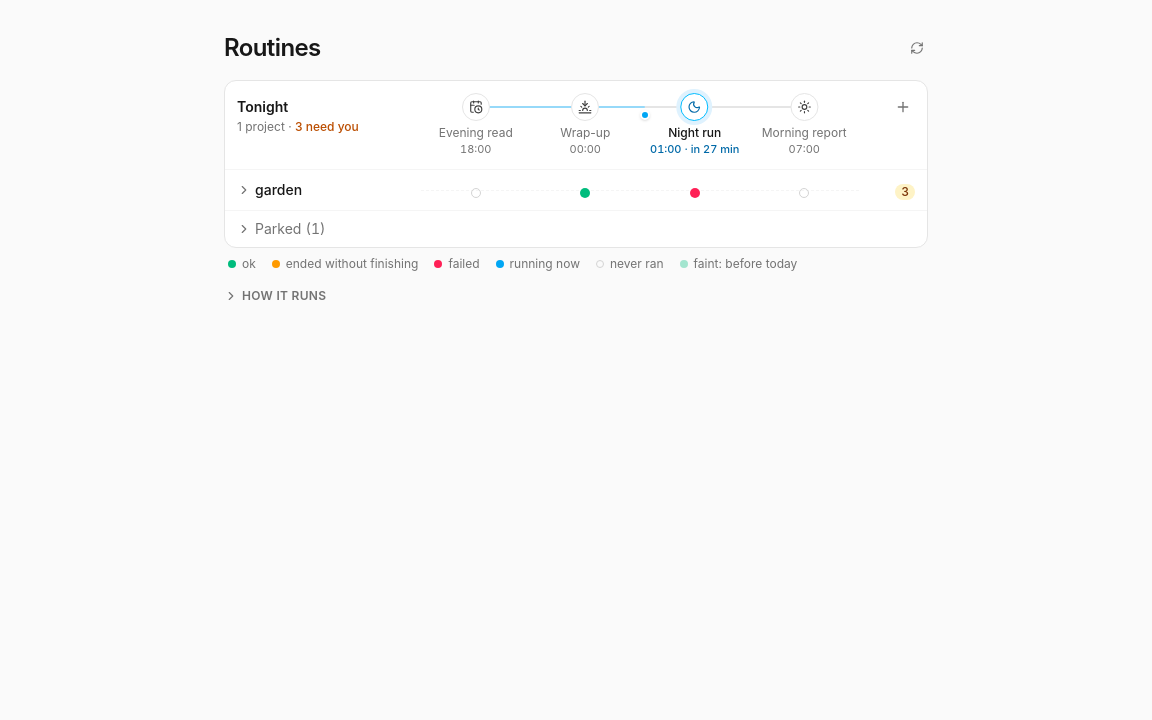
Test: the Routines page › shows one dot per routine a project is in, and opens its log on click
The width and height of the screenshot is (1152, 720).
Expected: the button "garden" is shown, [237,180,413,200]
Click the button "Parked (1)".
click(278, 228)  # box [225,211,927,247]
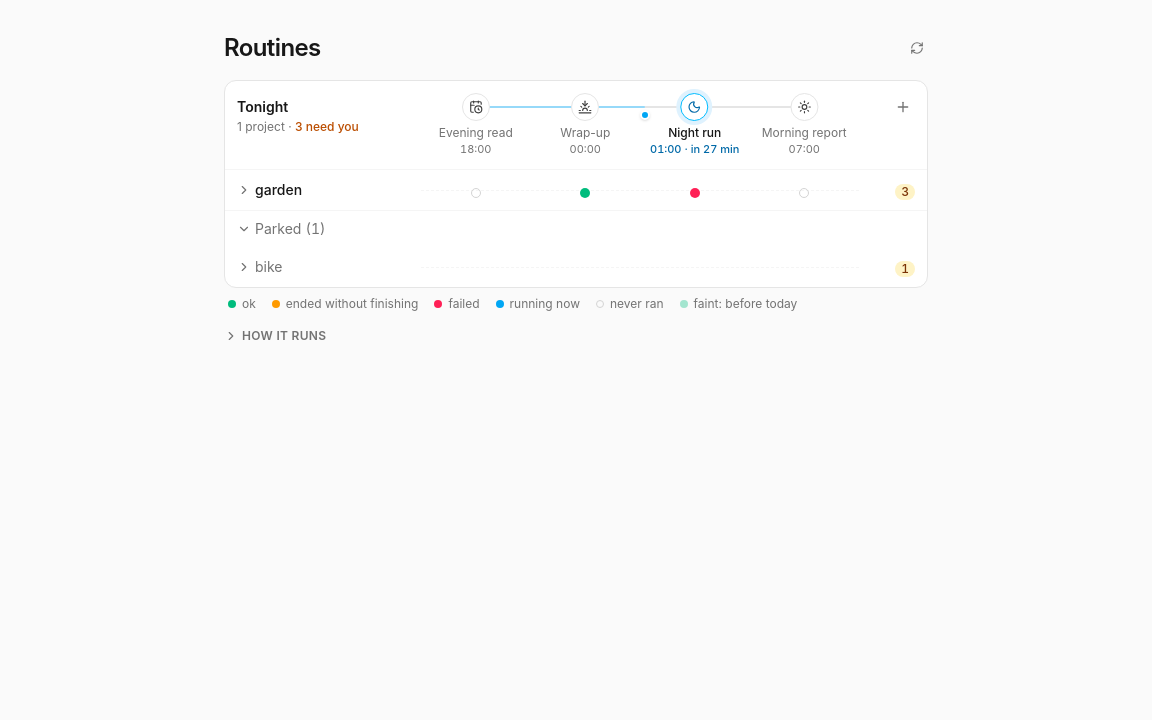
Click the button named "Night run · garden: failed, 01:09".
click(695, 193)  # box [685,183,705,203]
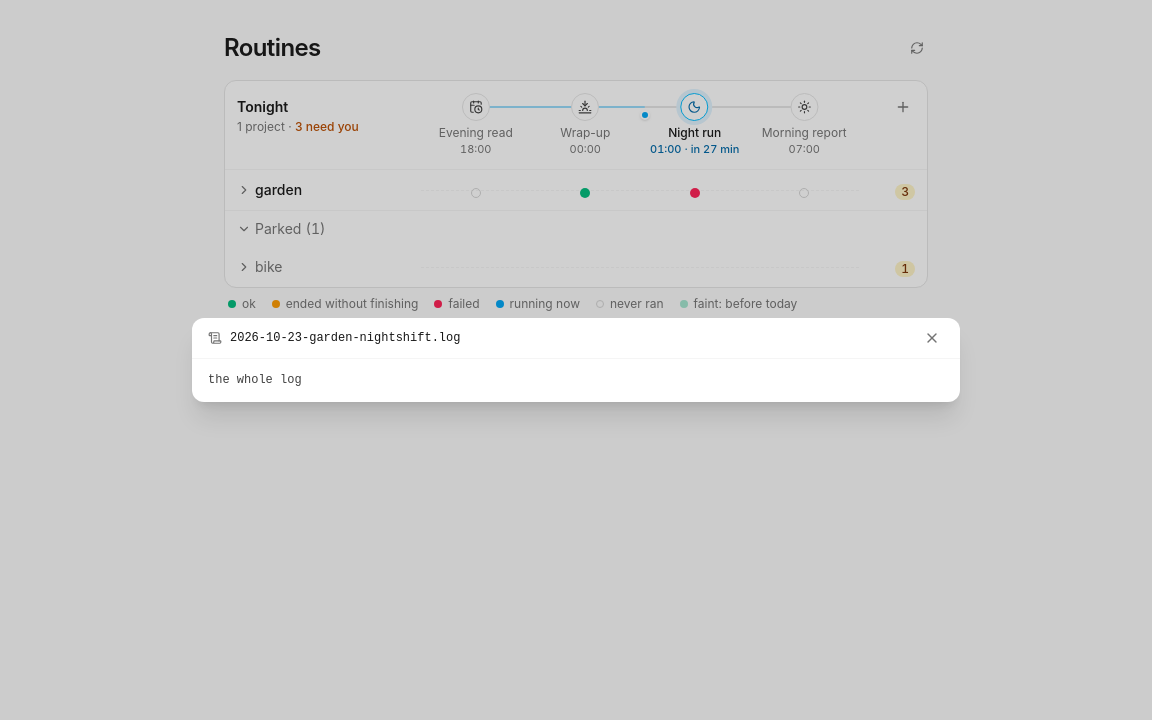
Now the text "the whole log" is shown, box [208,373,302,387]
